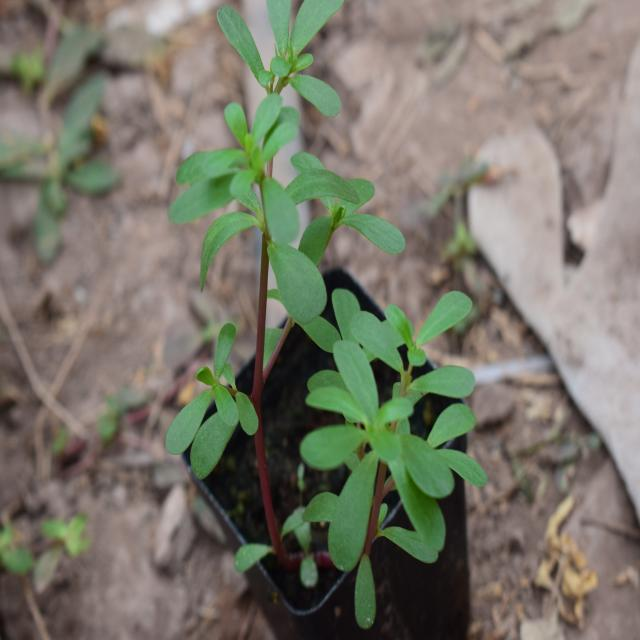purslane: (188, 0, 481, 547)
